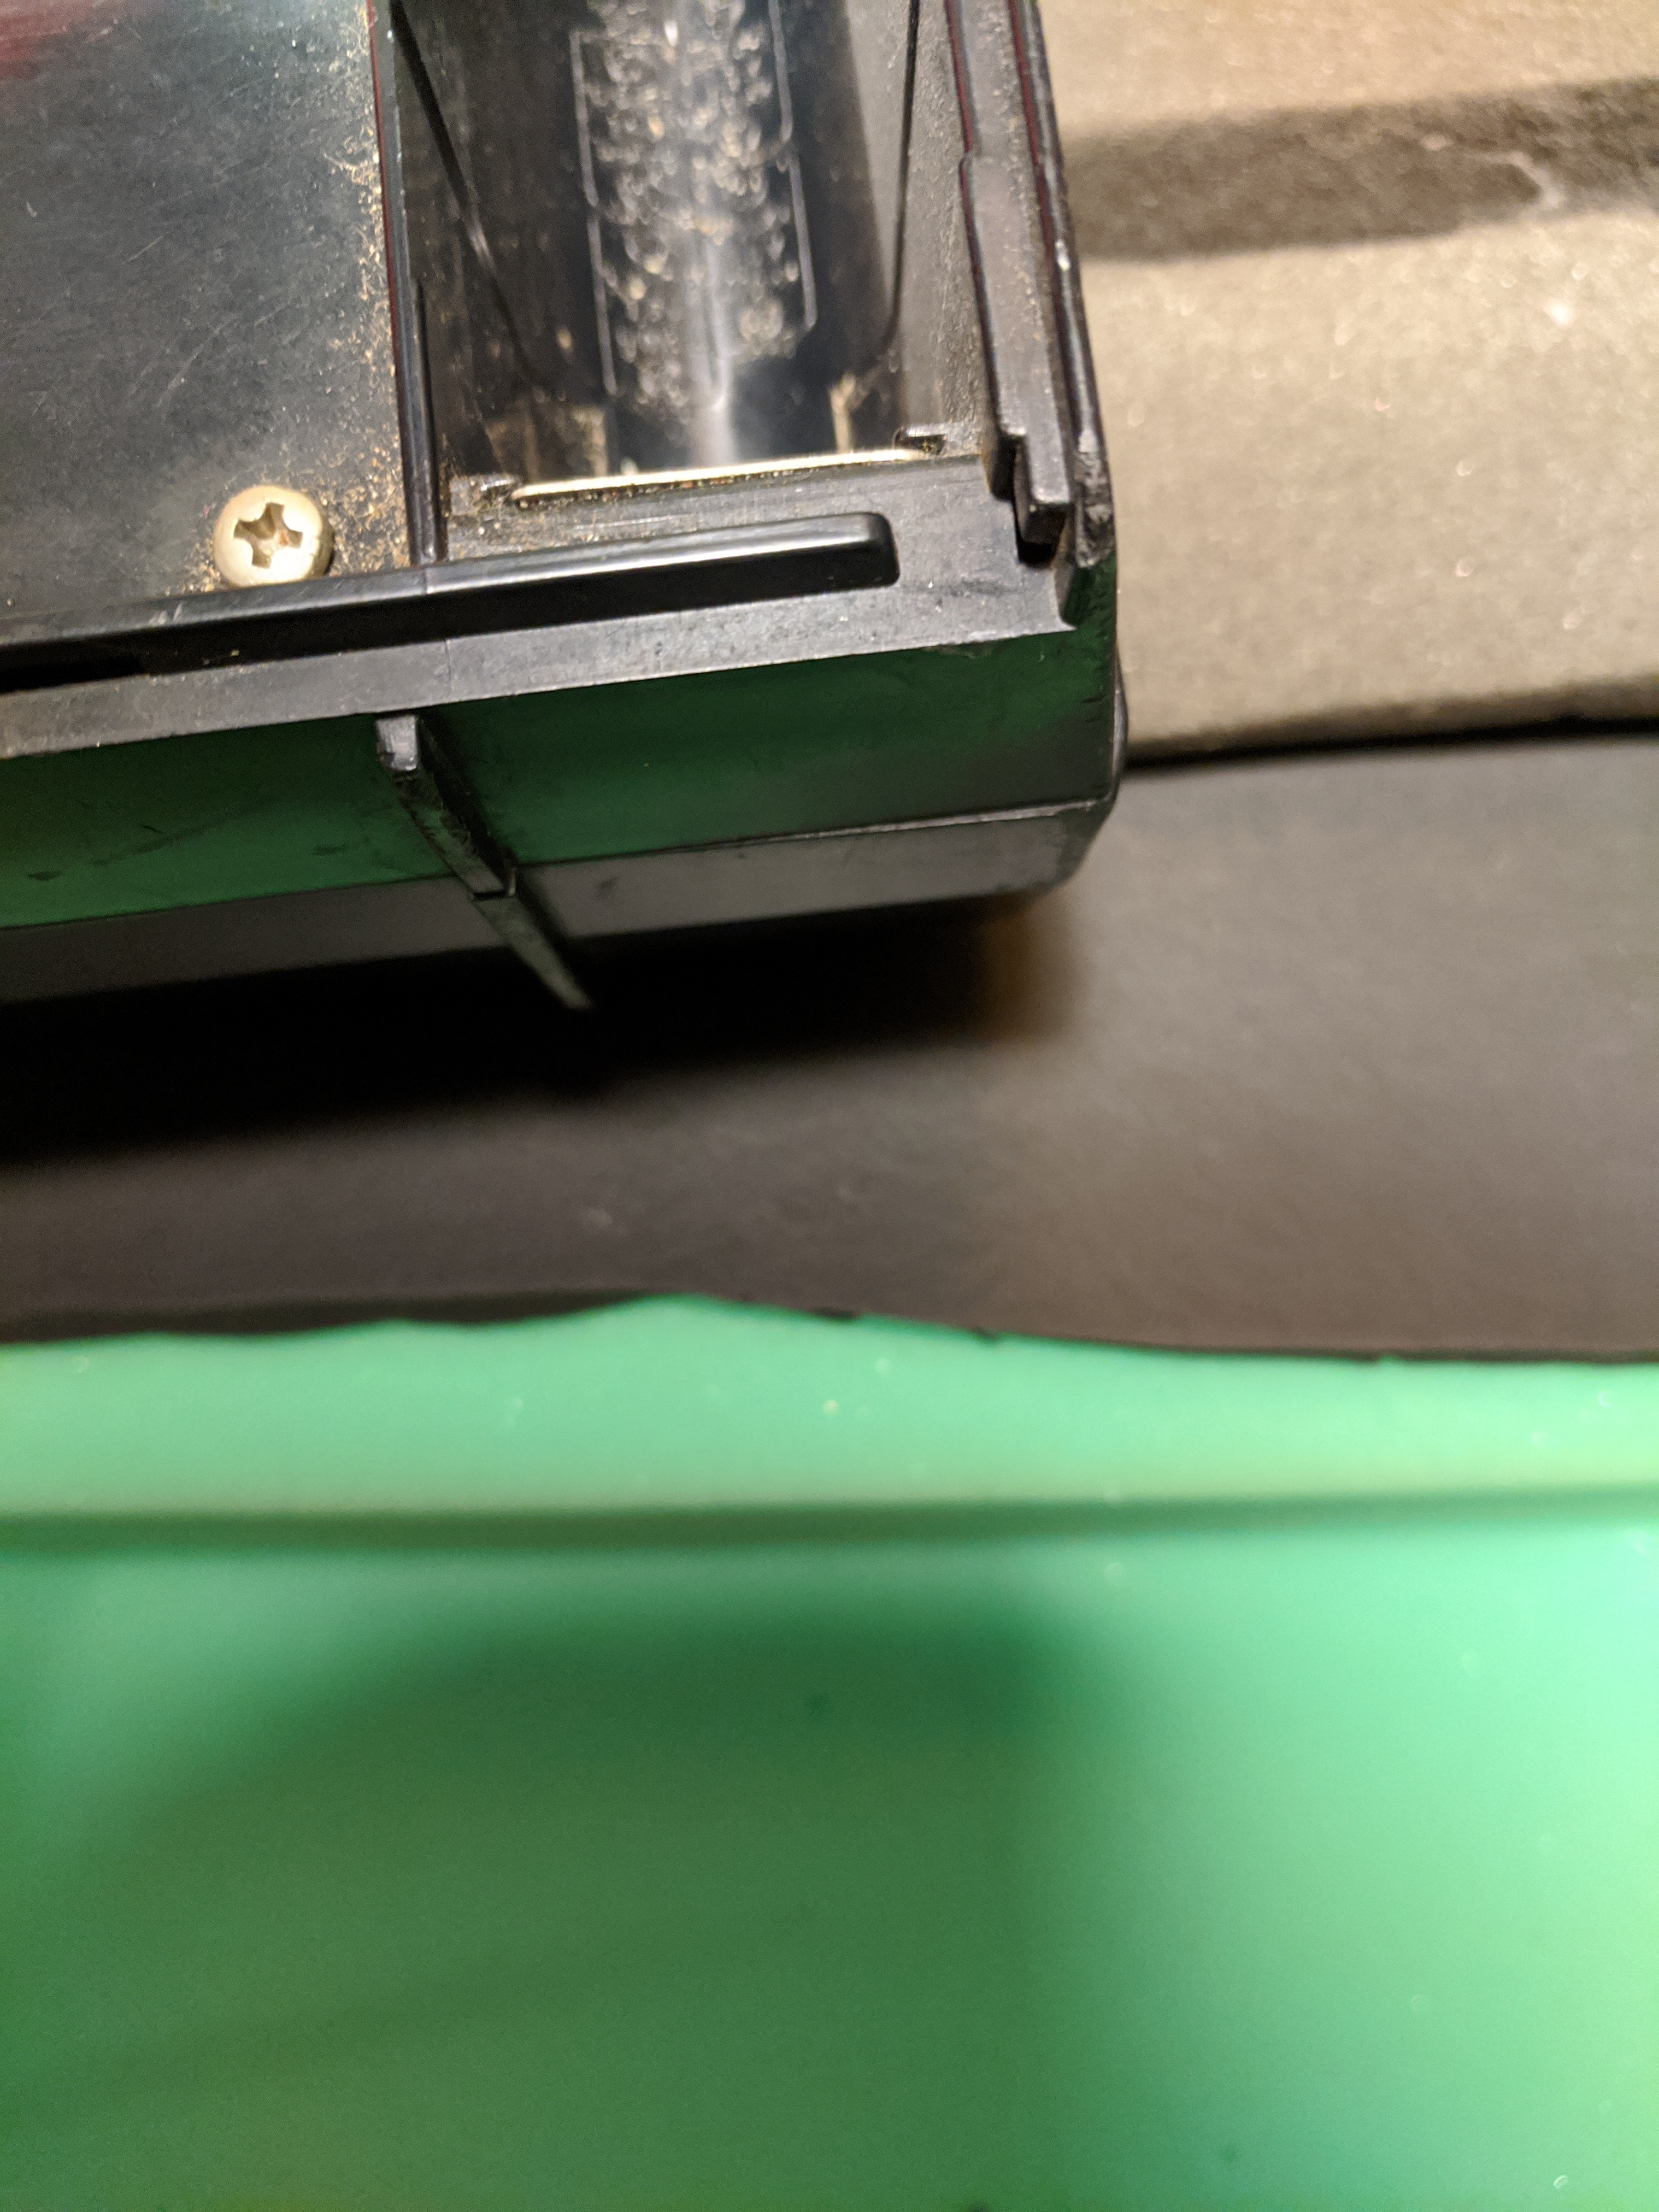cross_recessed_screw: (204, 470, 328, 599)
